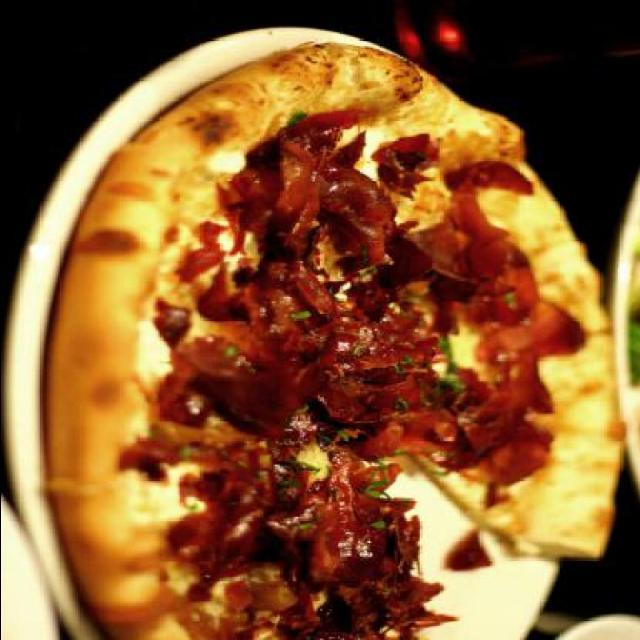Pizza: (32, 50, 614, 639)
